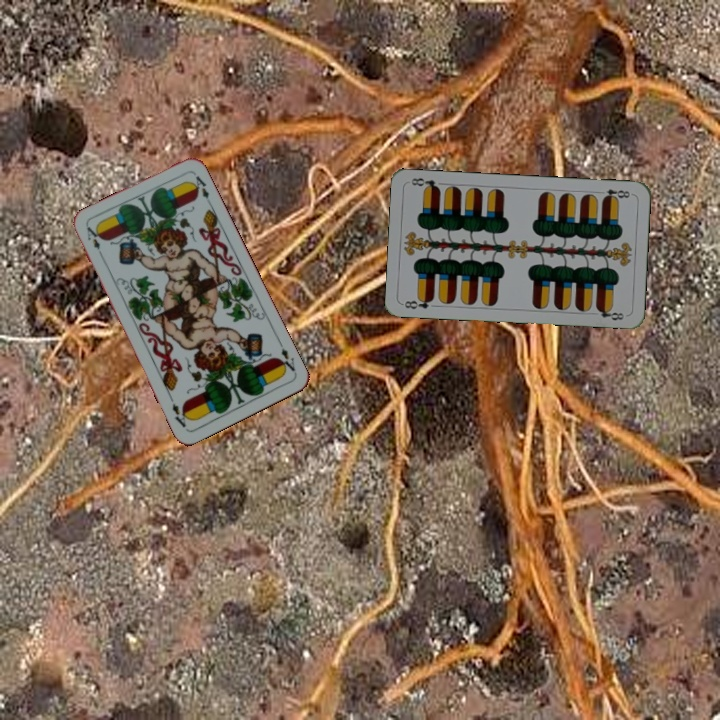E8: (594, 185, 635, 203), (401, 293, 436, 312)
EA: (274, 338, 298, 376), (83, 222, 106, 261)
